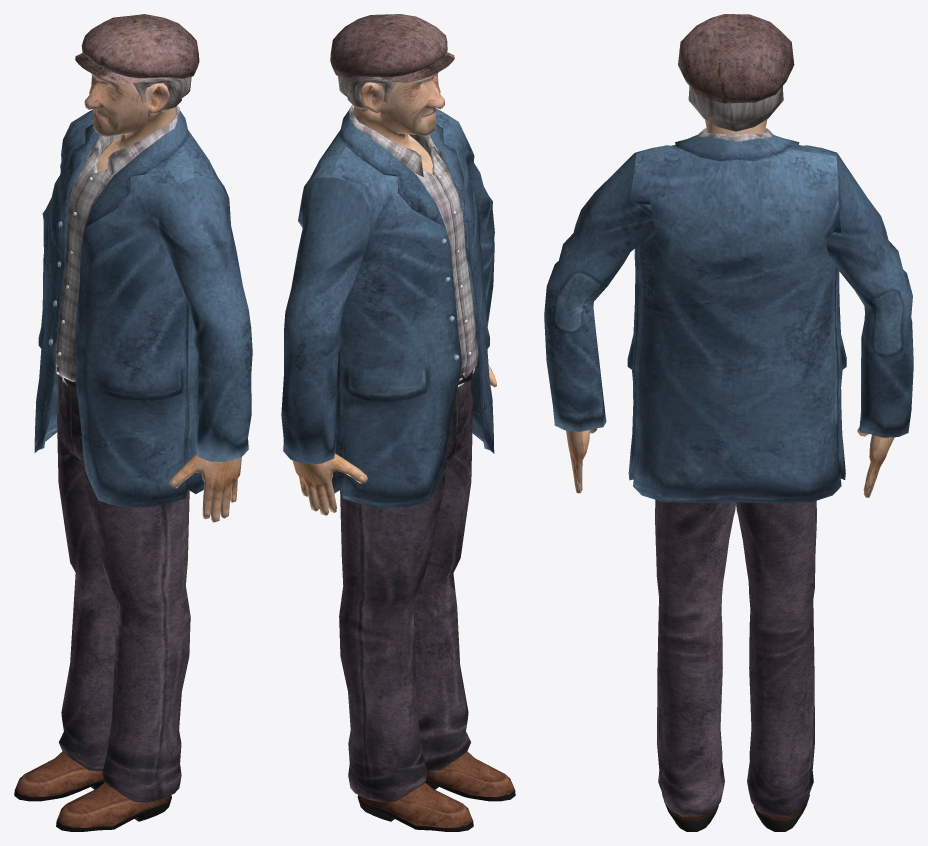
The model's file is passenger_3_standing.obj.
3 renders of one model, left to right at view 1: azimuth 30°, elevation 25°; view 2: azimuth 150°, elevation 25°; view 3: azimuth 270°, elevation 25°, orthographic. The views are drawn at different scales.
Visible parts, largest first — view 1: passenger3; view 2: passenger3; view 3: passenger3.
Part boxes in pixels (<box>): passenger3: <box>14,14,252,831</box>; passenger3: <box>281,14,515,831</box>; passenger3: <box>544,14,913,831</box>.
Size of the model in its own units: 0.5385 by 2.43 by 1.01.
Materials: 1 (1 with a texture image).
